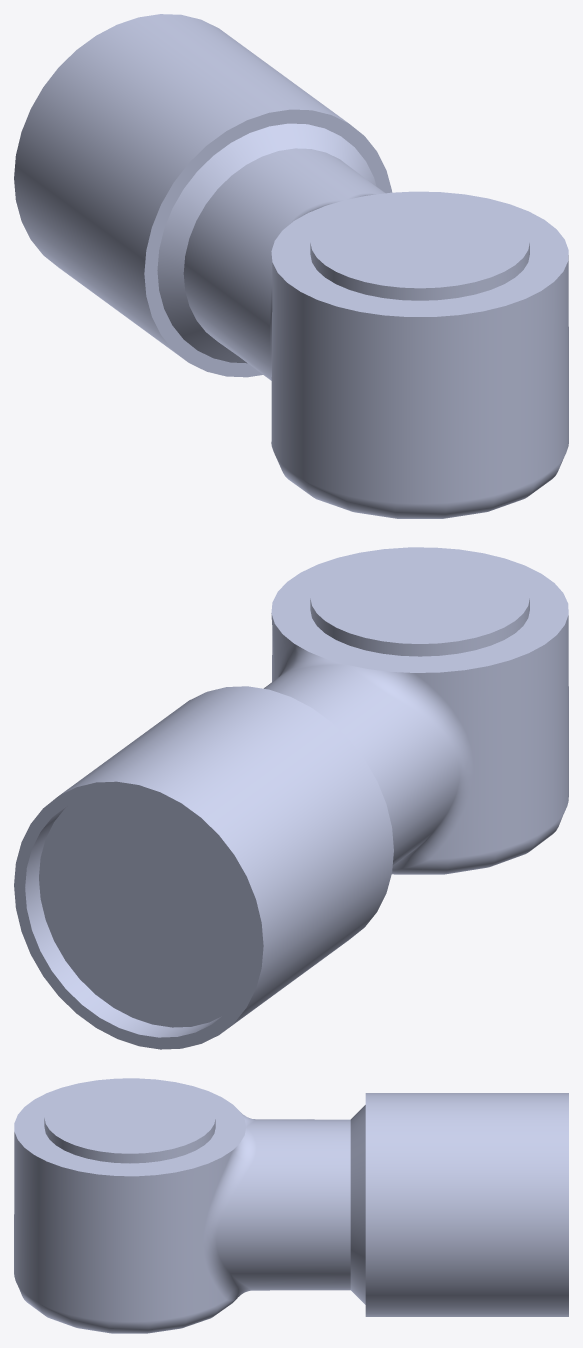
3 renders of one model, top to bottom at view 1: azimuth 30°, elevation 25°; view 2: azimuth 150°, elevation 25°; view 3: azimuth 270°, elevation 25°, orthographic. The views are drawn at different scales.
Visible parts, largest first — view 1: Link-1; view 2: Link-1; view 3: Link-1.
Part boxes in pixels (x1,y1,x2,y2): Link-1: (14, 14, 568, 518); Link-1: (14, 547, 568, 1049); Link-1: (14, 1078, 568, 1333).
Bounding box in the file's own units: 0.1084 × 0.105 × 0.2592.
